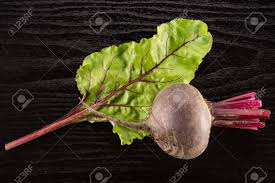beet: (79, 83, 271, 159)
